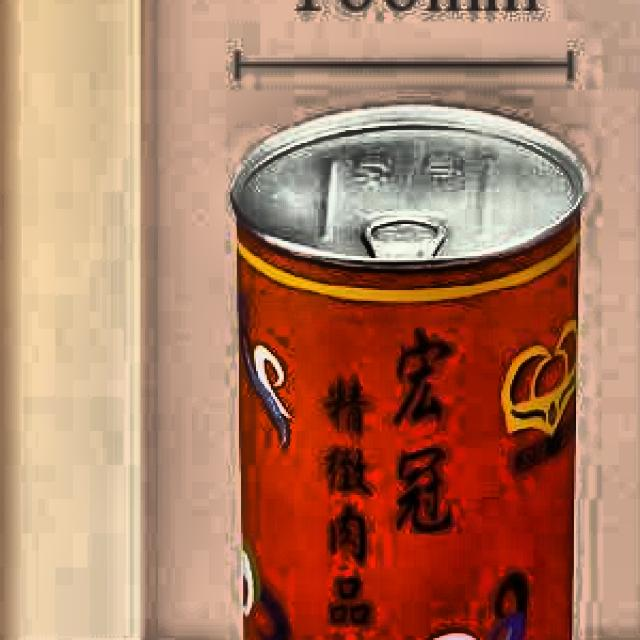metal: (219, 89, 599, 640)
